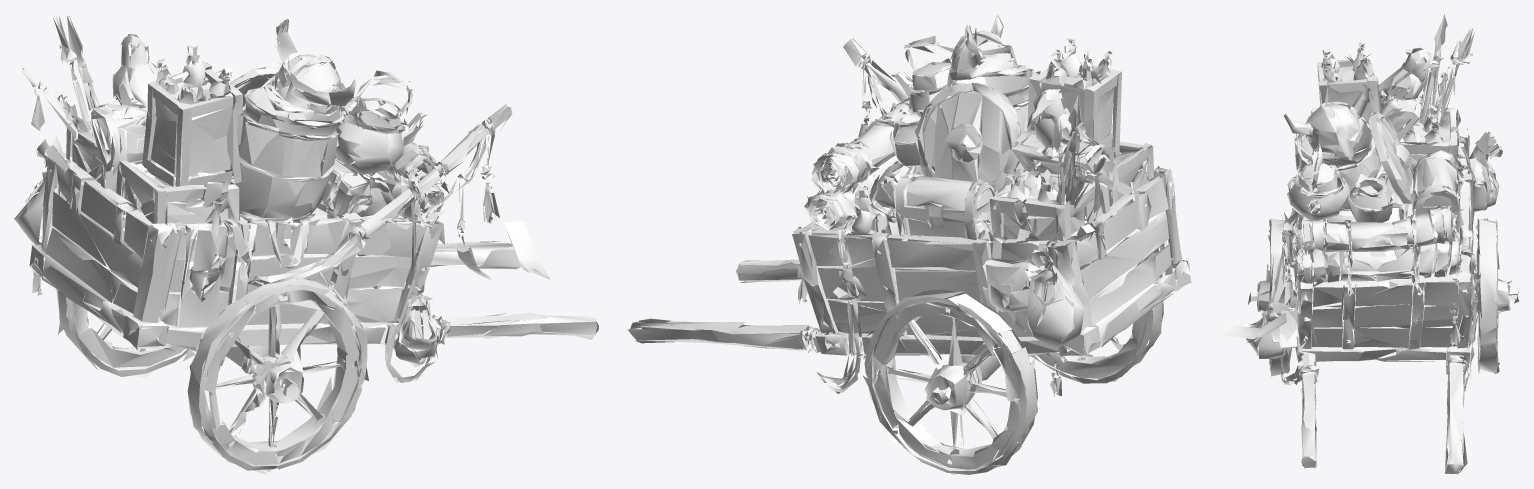
File: merchant_cart_lod1.glb
The picture shows the model from 3 angles, left to right: view 1: azimuth 30°, elevation 25°; view 2: azimuth 150°, elevation 25°; view 3: azimuth 270°, elevation 25°; orthographic projection. The views are drawn at different scales.
Visible parts, largest first — view 1: merchant_cart; view 2: merchant_cart; view 3: merchant_cart.
Boxes of the visible parts, x1,y1,x2,y2 form: merchant_cart: (14,15,598,474); merchant_cart: (627,15,1191,474); merchant_cart: (1221,14,1519,474).
Bounding box in the file's own units: 2.48 × 1.92 × 1.64.
1 material, 1 textured.
